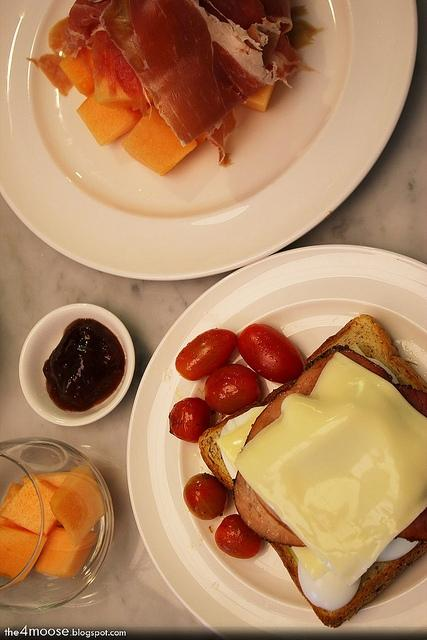tomato: (238, 322, 304, 384), (176, 328, 237, 380), (204, 363, 262, 415), (182, 473, 229, 520), (215, 514, 262, 559), (168, 397, 212, 443)
